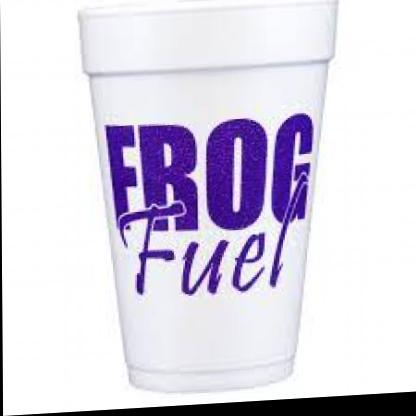Plastic: (65, 0, 351, 409)
